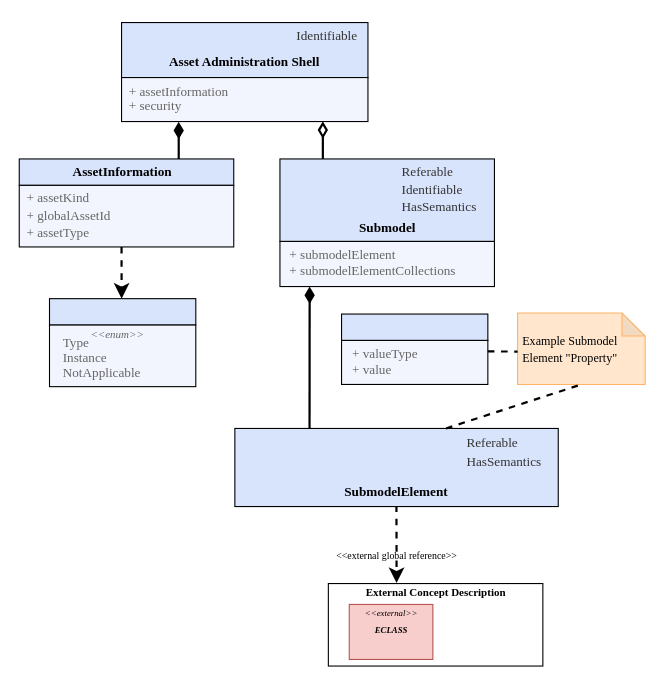
This 664x685 diagram has some shape labels left out. Here are the shapes that lost their labels. From the top down, the box of each, then its label:
(48, 298, 196, 325): AssetKind
(340, 313, 488, 340): Property
